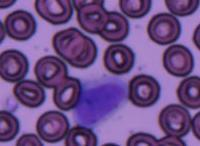L: (73, 76, 129, 126)
